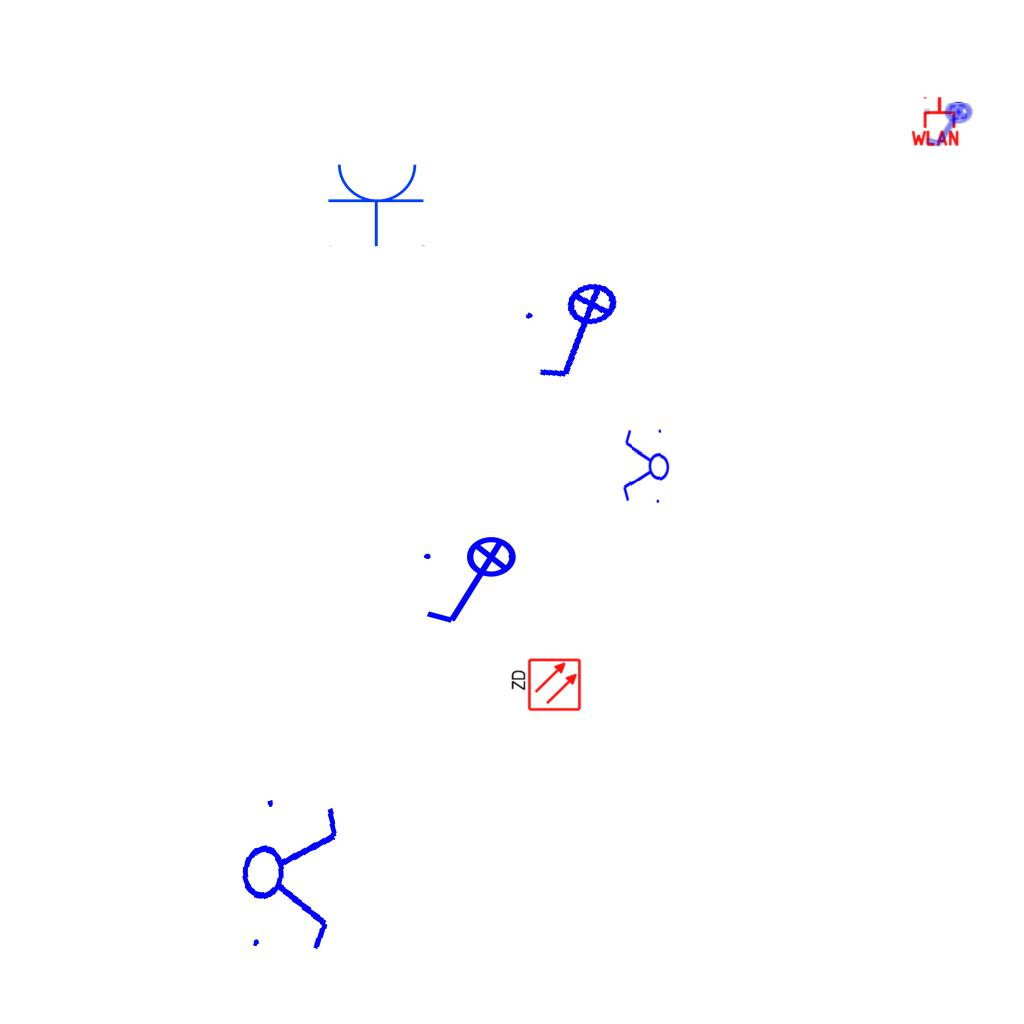Ausschalter_beleuchtet: (515, 275, 645, 391), (418, 535, 530, 631), (922, 101, 978, 149)
Schukosteckdose_einfach: (327, 160, 427, 247)
Serienschalter: (232, 785, 346, 963), (620, 424, 672, 510)
WLAN: (909, 95, 961, 147)
ZD_Melder_in_Zwischendecke_mit_Revisionsoeffnung_mind_40_x_40_cm: (508, 657, 582, 714)
